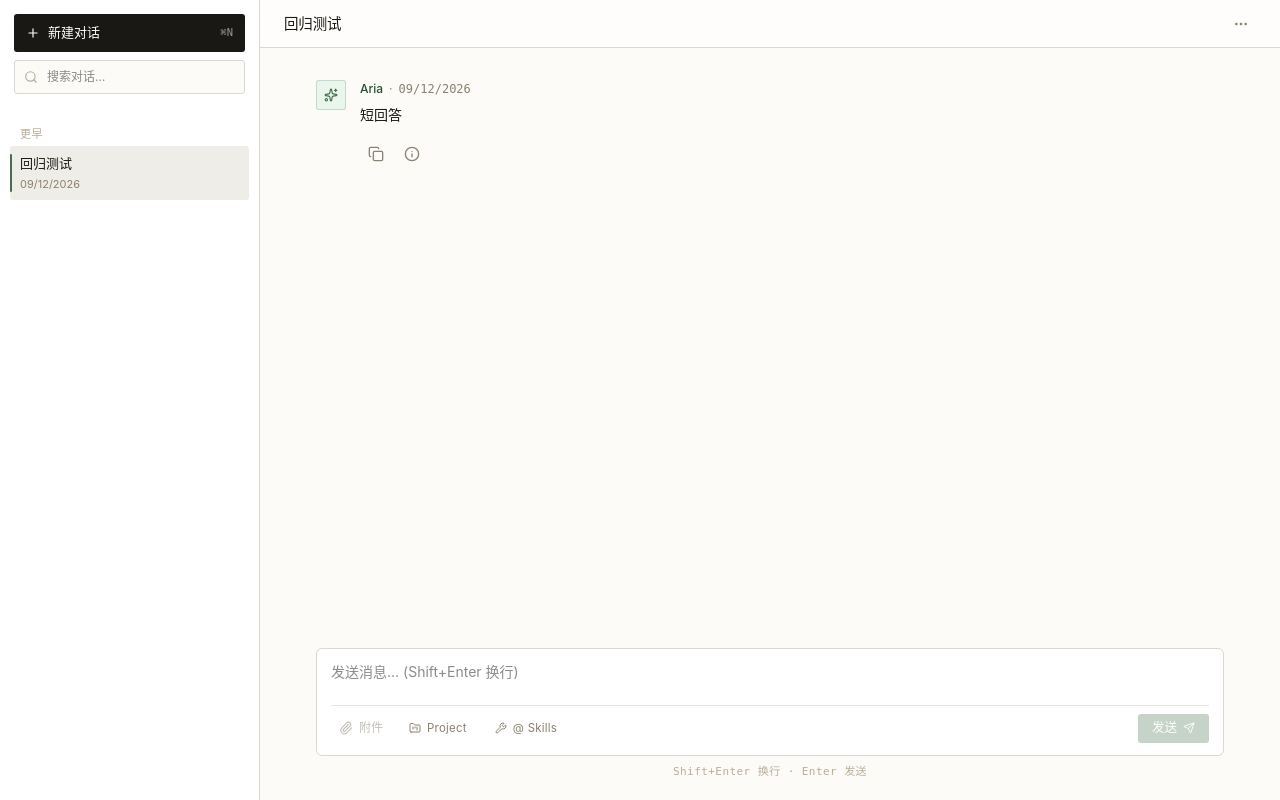
Scenario: standalone chat failure handling › defaults to the answer on reopen and shows persisted receipts only on request
This screenshot has width=1280, height=800.
Expected: the text "短回答" is shown, x1=360 y1=106 x2=402 y2=123
Expected: the number of buttons named "复制" is 1, x1=360 y1=138 x2=392 y2=170
Click the button named "查看回答详情" at (412,154), box x1=396 y1=138 x2=428 y2=170
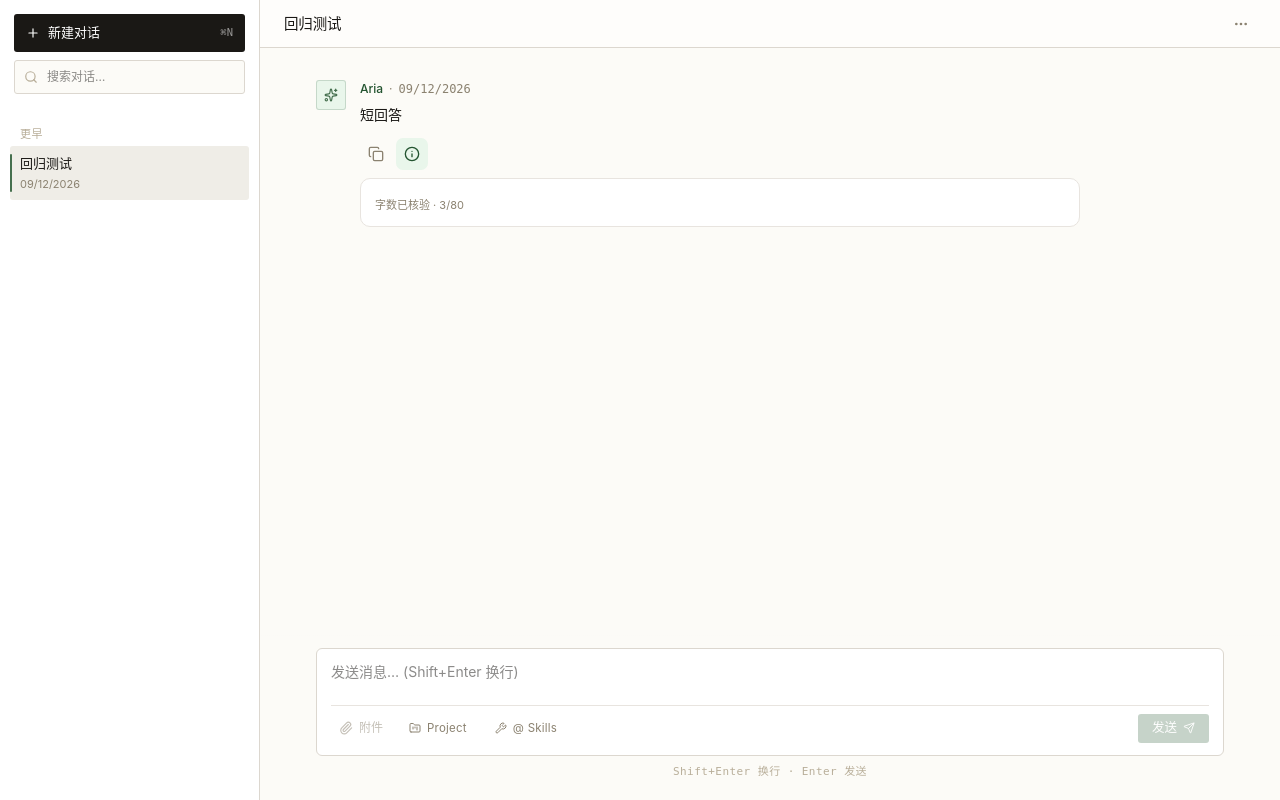
Now the text "字数已核验 · 3/80" is shown, box x1=375 y1=198 x2=464 y2=212
